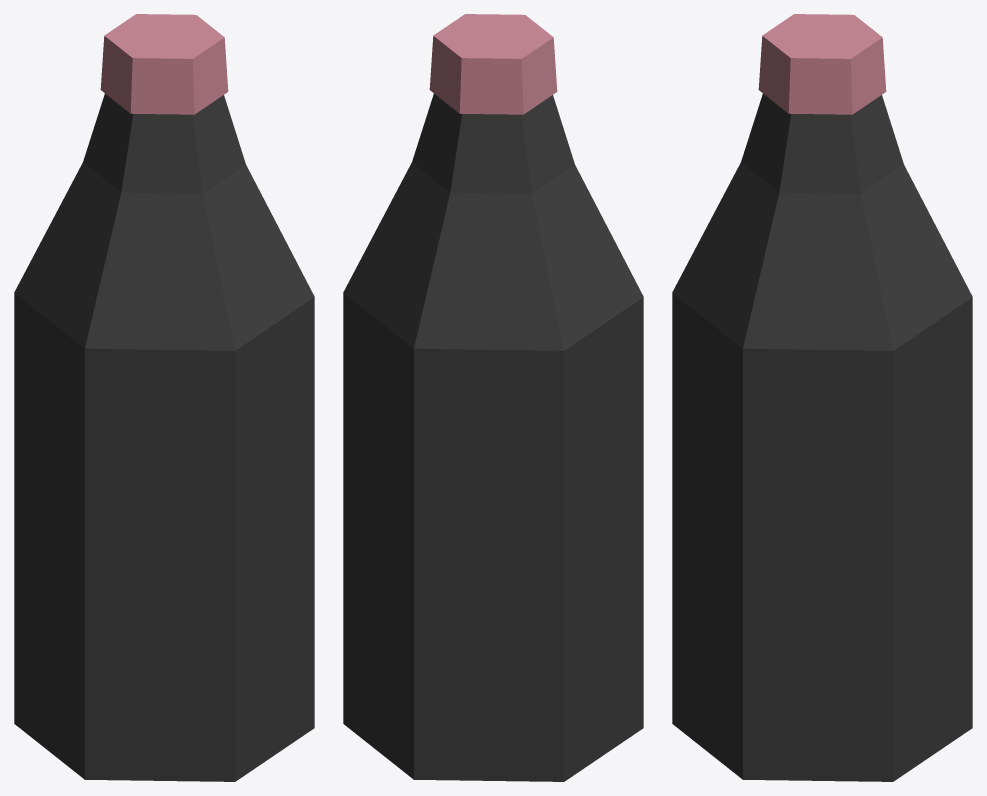
Rendered from Laundry_Bottle1.fbx.
3 renders of one model, left to right at view 1: azimuth 30°, elevation 25°; view 2: azimuth 150°, elevation 25°; view 3: azimuth 270°, elevation 25°, orthographic.
Visible parts, largest first — view 1: Laundry_Bottle1; view 2: Laundry_Bottle1; view 3: Laundry_Bottle1.
Boxes of the visible parts, <box> form: Laundry_Bottle1: <box>14,14,314,781</box>; Laundry_Bottle1: <box>343,14,643,781</box>; Laundry_Bottle1: <box>672,14,972,781</box>.
Bounding box in the file's own units: 13.51 × 38.73 × 15.31.
